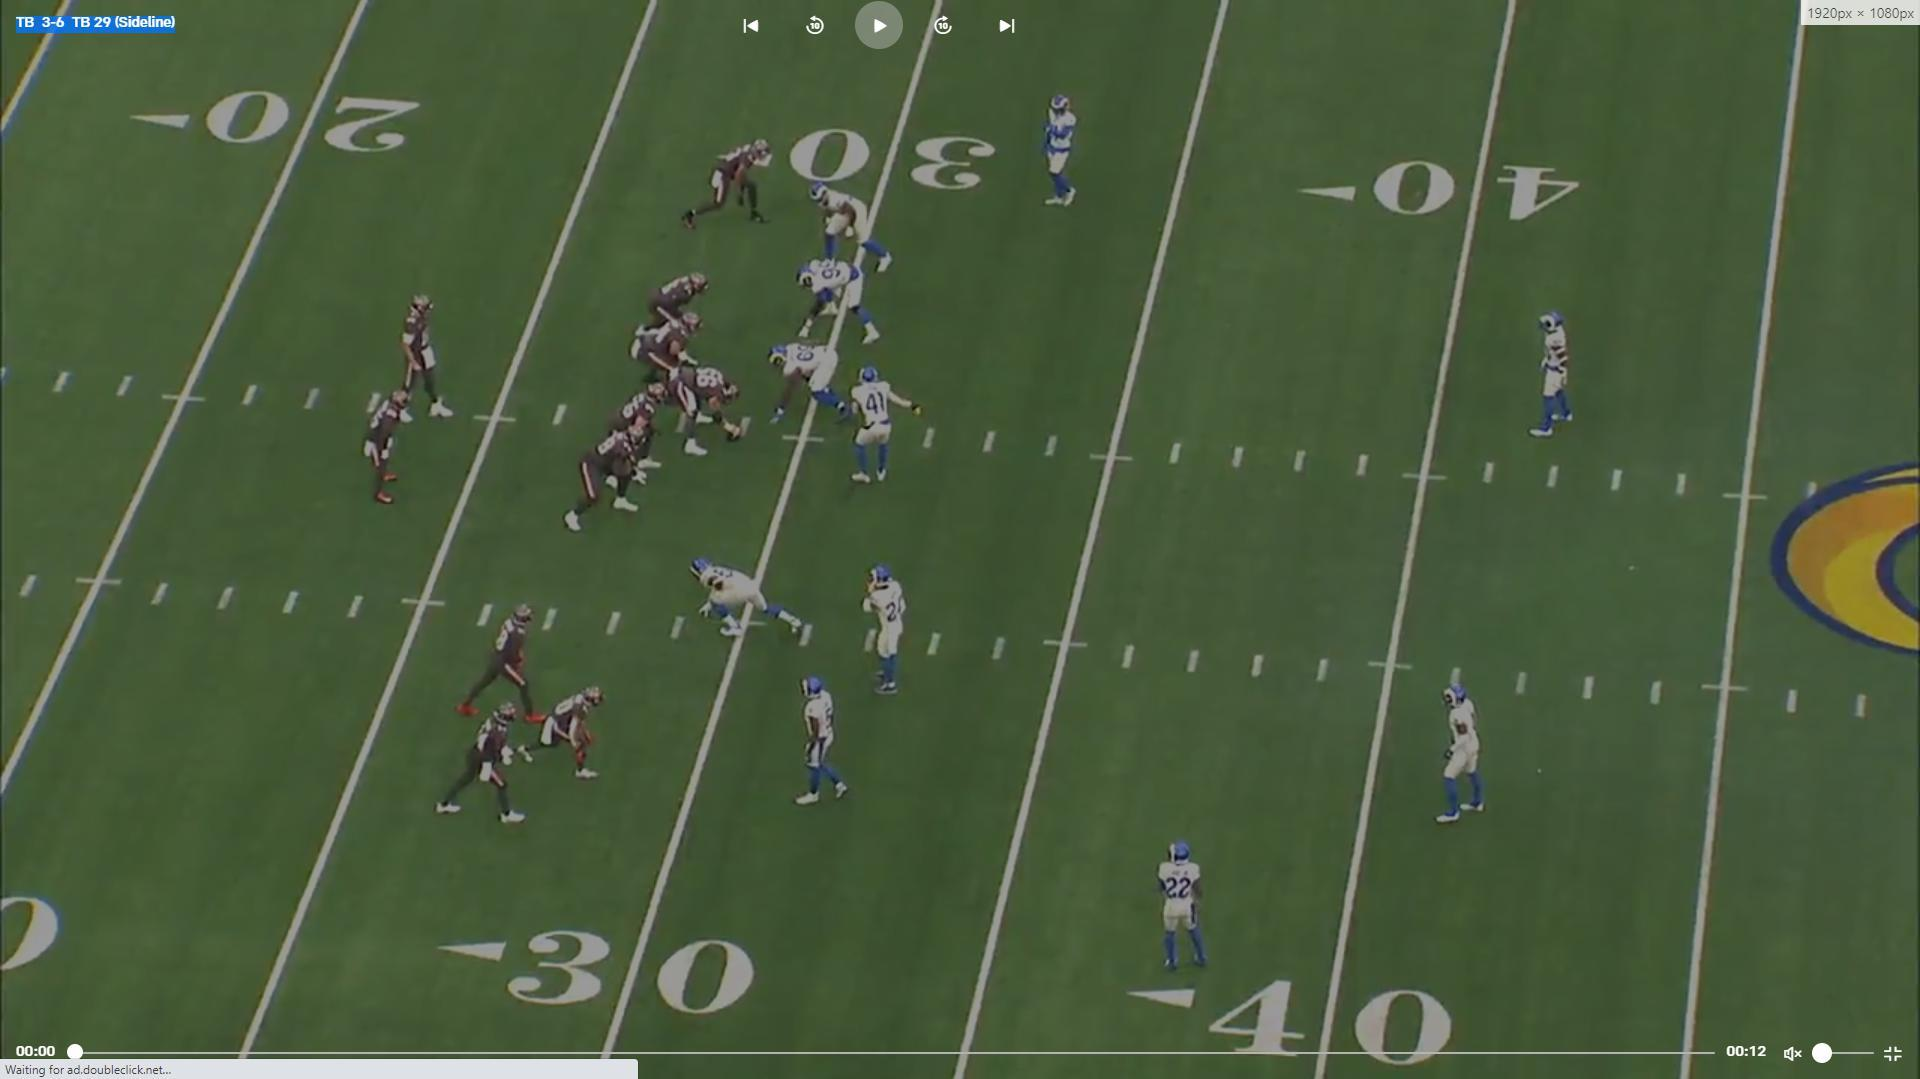defense: (690, 551, 808, 642), (1433, 674, 1495, 839), (1153, 832, 1216, 988), (841, 360, 915, 488), (795, 670, 858, 815), (790, 257, 889, 350), (808, 173, 898, 270), (855, 555, 911, 702), (1530, 305, 1582, 451), (765, 338, 856, 421), (1039, 91, 1085, 216)
oline: (556, 425, 647, 539), (674, 361, 753, 459), (612, 383, 670, 491), (633, 315, 704, 396), (647, 269, 712, 330)
qb: (398, 289, 454, 423)
skill: (431, 699, 530, 839), (459, 599, 555, 731), (679, 135, 779, 237), (517, 683, 609, 786), (361, 385, 411, 514)
